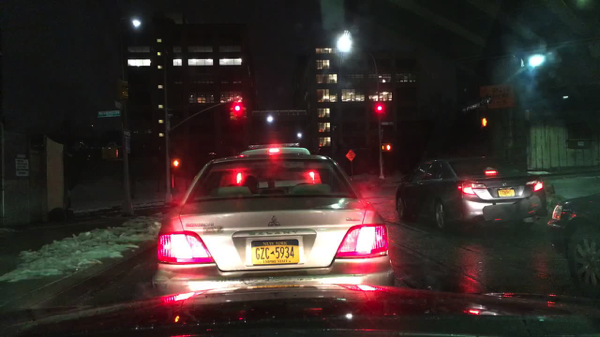car: (151, 155, 394, 298), (394, 156, 545, 233), (545, 193, 599, 298), (72, 152, 123, 179), (335, 148, 377, 174), (239, 143, 310, 155), (317, 146, 334, 156)
person: (154, 150, 169, 192)
traffic light: (118, 79, 129, 100), (102, 148, 118, 158), (234, 103, 241, 120), (240, 106, 247, 121), (374, 104, 383, 113), (170, 159, 180, 167), (230, 104, 234, 121), (480, 118, 486, 128), (385, 144, 391, 150), (380, 144, 384, 151)
traffic sign: (478, 85, 513, 108), (96, 111, 121, 117), (345, 150, 355, 162), (125, 138, 132, 153), (380, 121, 394, 126), (166, 121, 171, 135), (115, 102, 123, 110), (524, 111, 529, 122), (124, 130, 131, 137), (380, 130, 383, 140)
